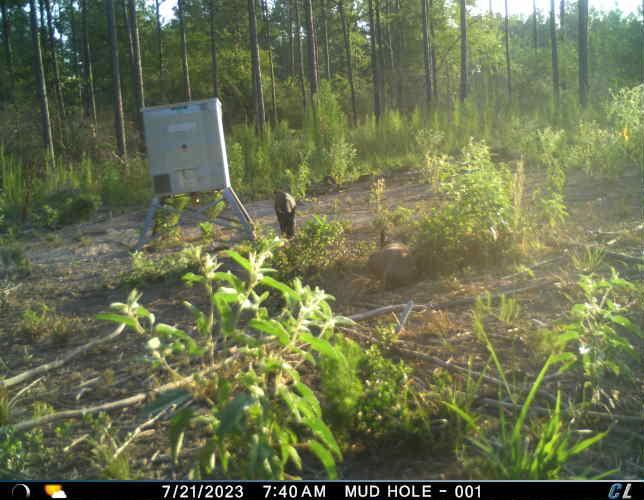Hog: (273, 189, 298, 240)
